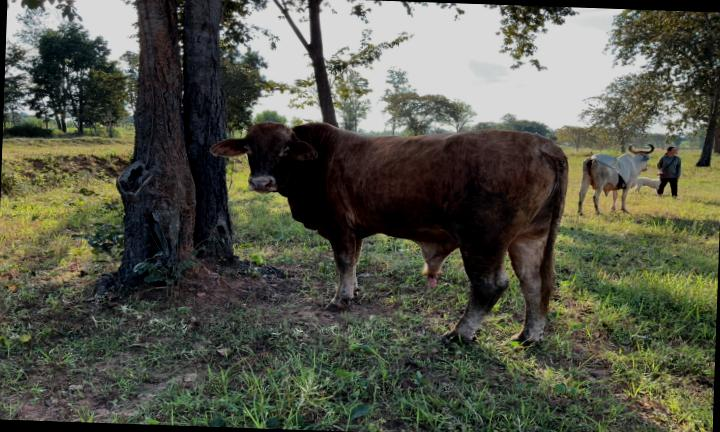Charolais: (211, 122, 567, 342)
